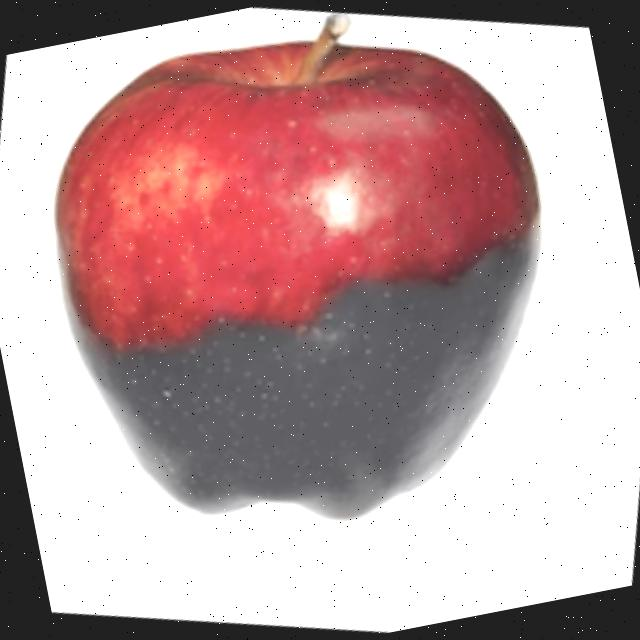Rotten: (17, 0, 600, 569)
